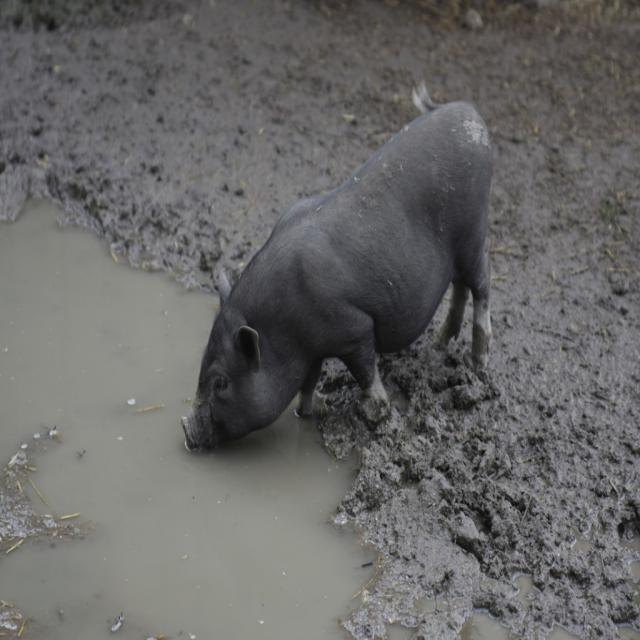Pig: (177, 92, 495, 471)
